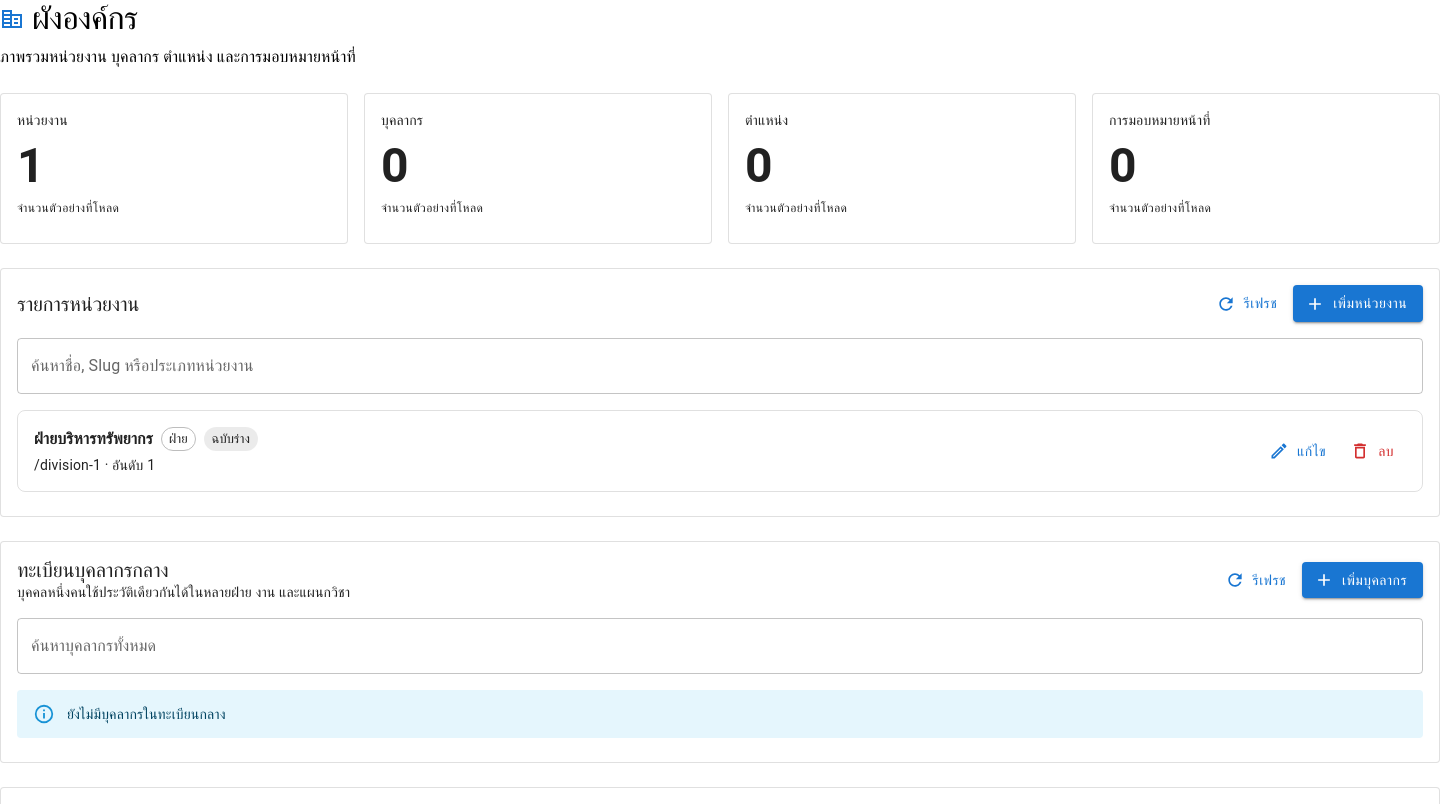
Phase 4 Organization Admin list/editor › fails closed and requests fresh data when someone else changed a revision
This screenshot has width=1440, height=804.
Click the button "แก้ไข" at (1300, 451), box [1265,432,1334,469]
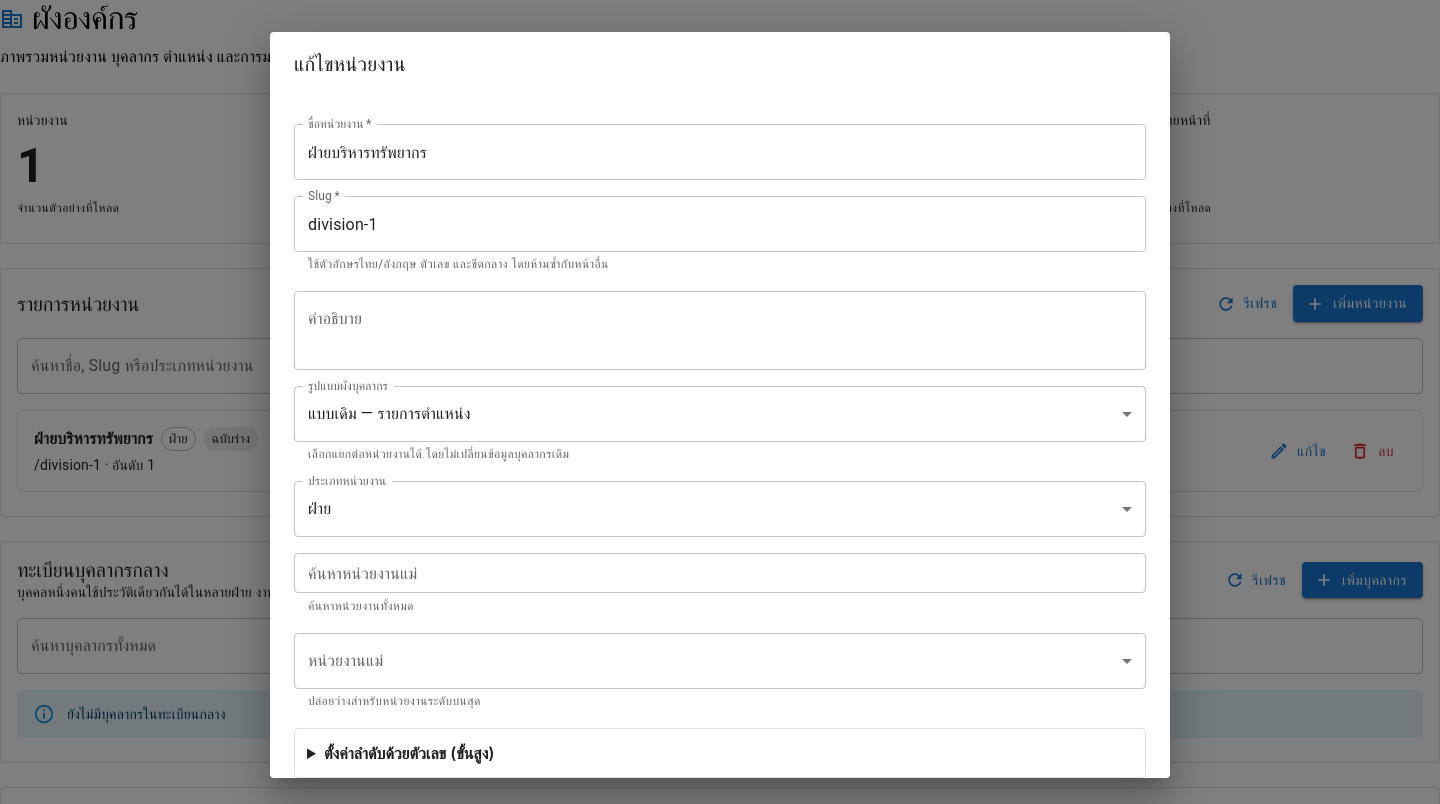
Replace the text in the field labelled "ชื่อหน่วยงาน" with "ฝ่ายบริหารทรัพยากร (แก้ไข)" at (720, 152), box [294,124,1146,180]
(page scrolled)
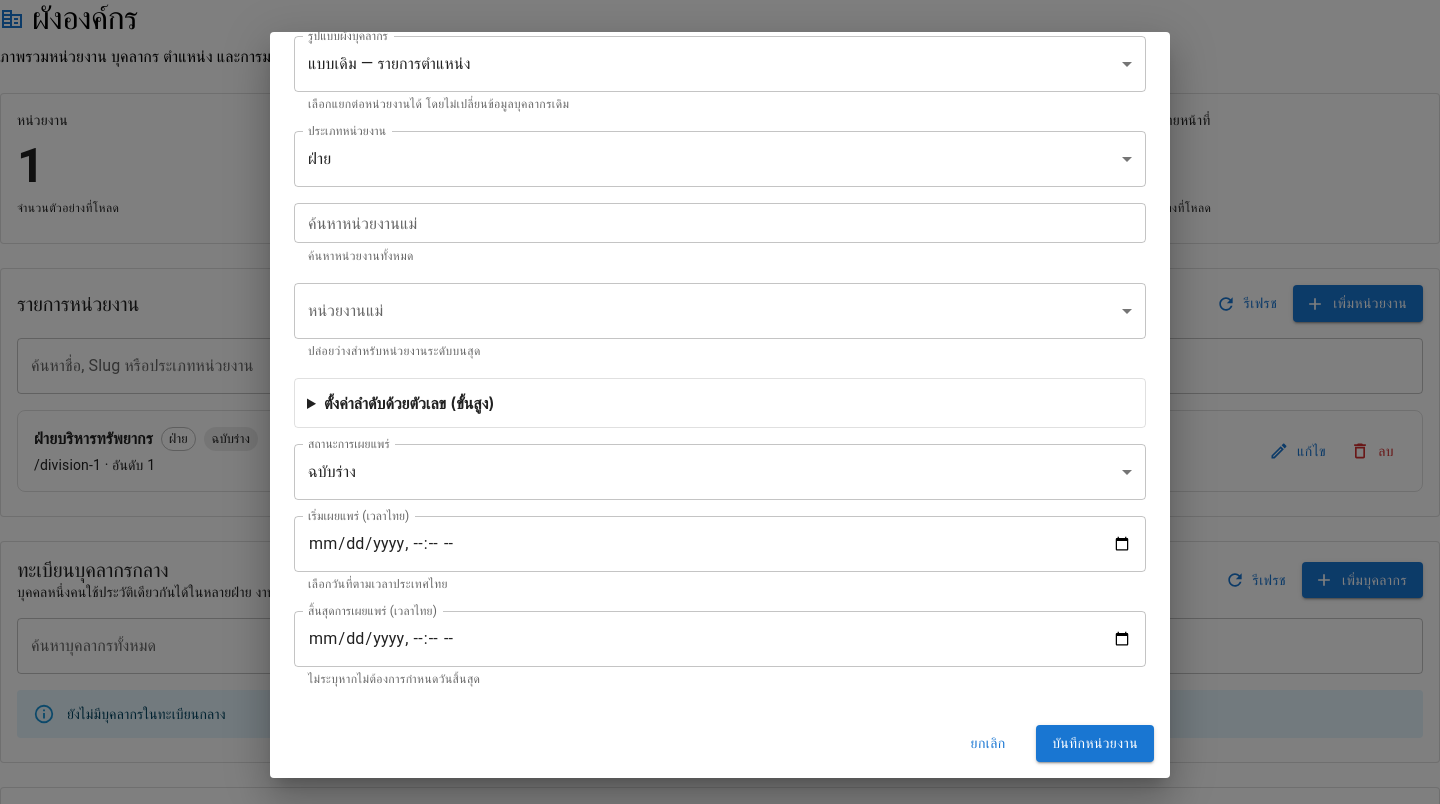
Click the button "บันทึกหน่วยงาน" at (1095, 744), box [1036,725,1154,762]
(page scrolled)
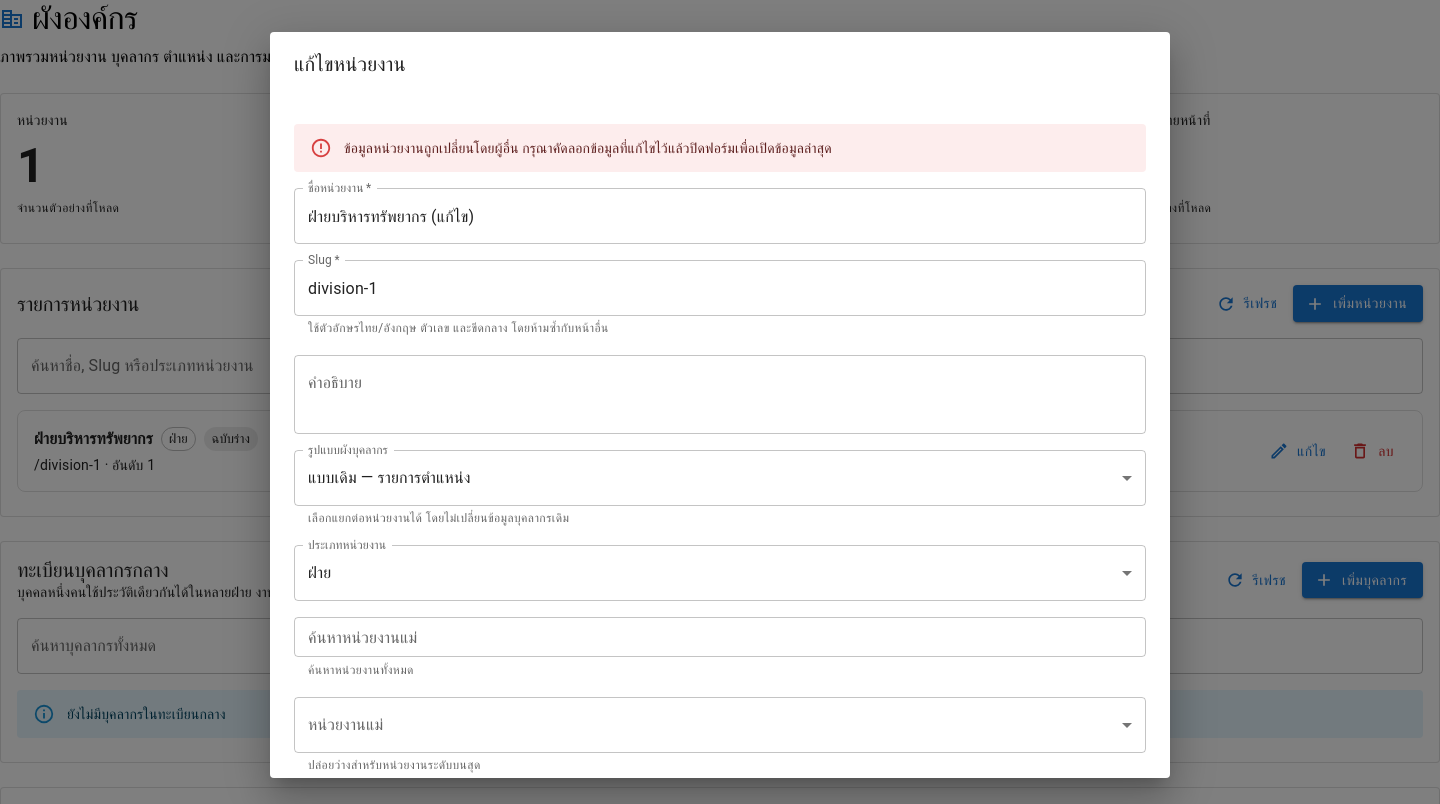
Result: the text "ข้อมูลหน่วยงานถูกเปลี่ยนโดยผู้อื่น" is shown at [344,140,832,156]
